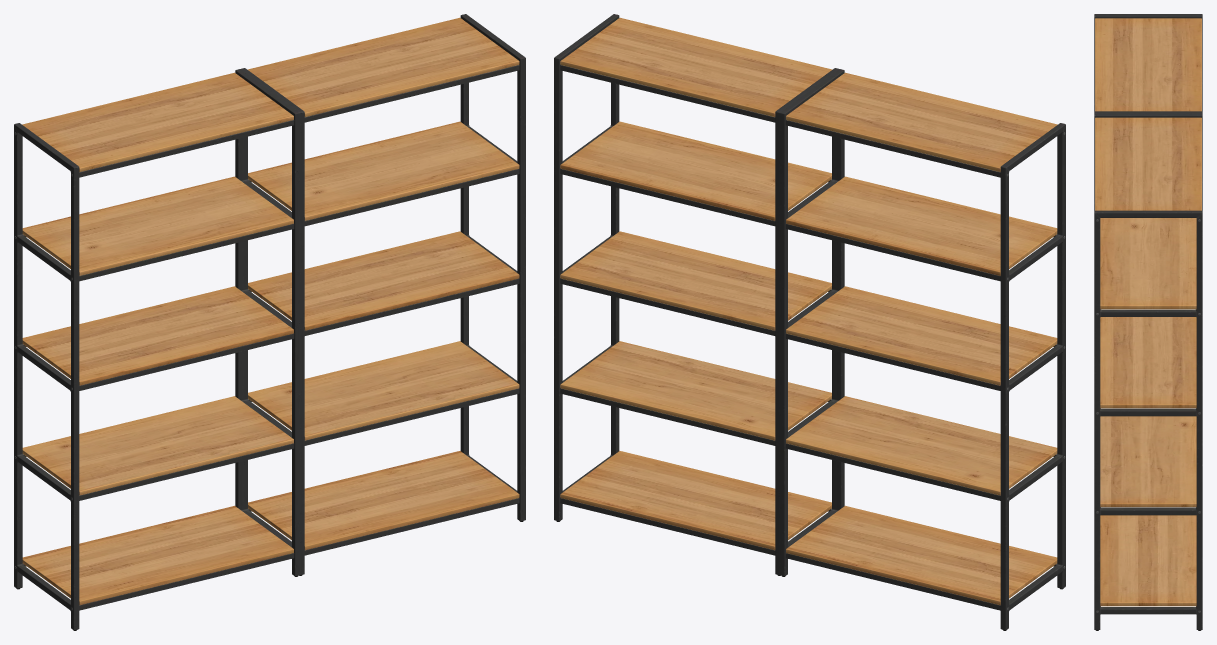
The model's file is shelf_large.glb.
The picture shows the model from 3 angles, left to right: view 1: azimuth 30°, elevation 25°; view 2: azimuth 150°, elevation 25°; view 3: azimuth 270°, elevation 25°; orthographic projection. The views are drawn at different scales.
Parts seen in each view (by area): view 1: steel_frame_shelves_01, steel_frame_shelves_01_2; view 2: steel_frame_shelves_01, steel_frame_shelves_01_2; view 3: steel_frame_shelves_01_2, steel_frame_shelves_01.
Part boxes in pixels (x1=…): steel_frame_shelves_01: x1=14, y1=69, x2=300, y2=630; steel_frame_shelves_01_2: x1=240, y1=14, x2=525, y2=575; steel_frame_shelves_01: x1=779, y1=69, x2=1065, y2=630; steel_frame_shelves_01_2: x1=554, y1=14, x2=839, y2=575; steel_frame_shelves_01_2: x1=1094, y1=113, x2=1202, y2=630; steel_frame_shelves_01: x1=1094, y1=14, x2=1202, y2=113.
Bounding box in the file's own units: 2.19 × 2.14 × 0.5022.
1 material, 1 textured.
